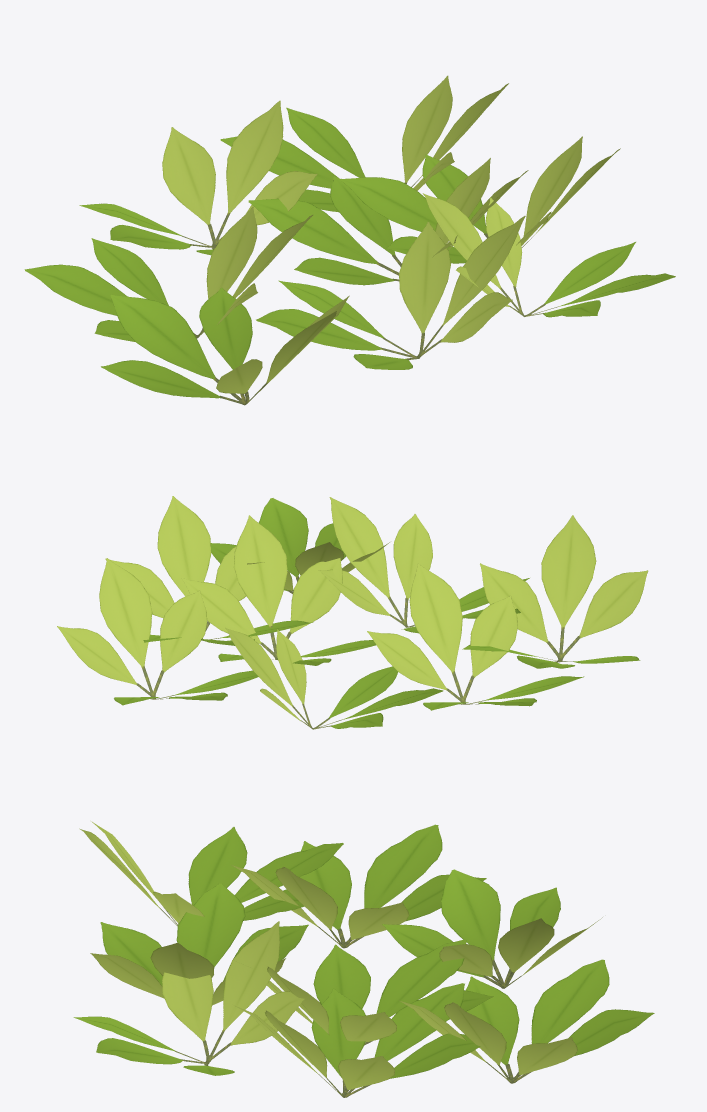
The model's file is Ivy_1_3.fbx.
3 renders of one model, top to bottom at view 1: azimuth 30°, elevation 25°; view 2: azimuth 150°, elevation 25°; view 3: azimuth 270°, elevation 25°, orthographic. The views are drawn at different scales.
Visible parts, largest first — view 1: Ivy.009; view 2: Ivy.009; view 3: Ivy.009.
Part boxes in pixels (x1,y1,x2,y2): Ivy.009: [24, 75, 675, 405]; Ivy.009: [57, 496, 648, 729]; Ivy.009: [73, 821, 654, 1097].
Bounding box in the file's own units: 70.05 × 13.56 × 62.01.
